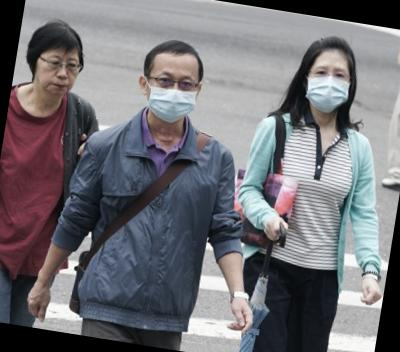with_mask: (142, 68, 204, 127), (302, 59, 354, 115)
without_mask: (32, 51, 82, 98)
